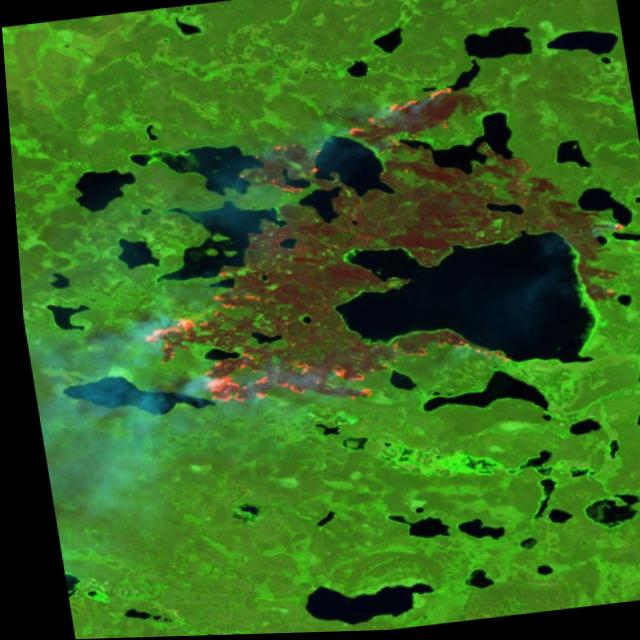fire: (99, 82, 502, 429)
